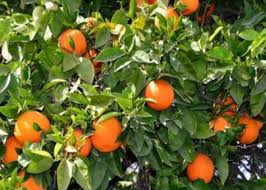orange: (85, 113, 126, 153), (183, 150, 217, 185), (14, 111, 51, 143), (56, 25, 89, 57), (143, 80, 178, 110), (62, 126, 92, 158)
